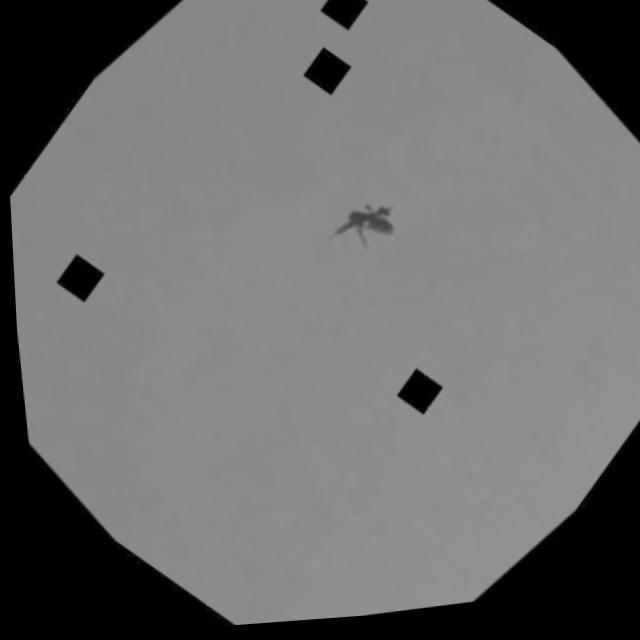aeroplane: (321, 186, 413, 279)
